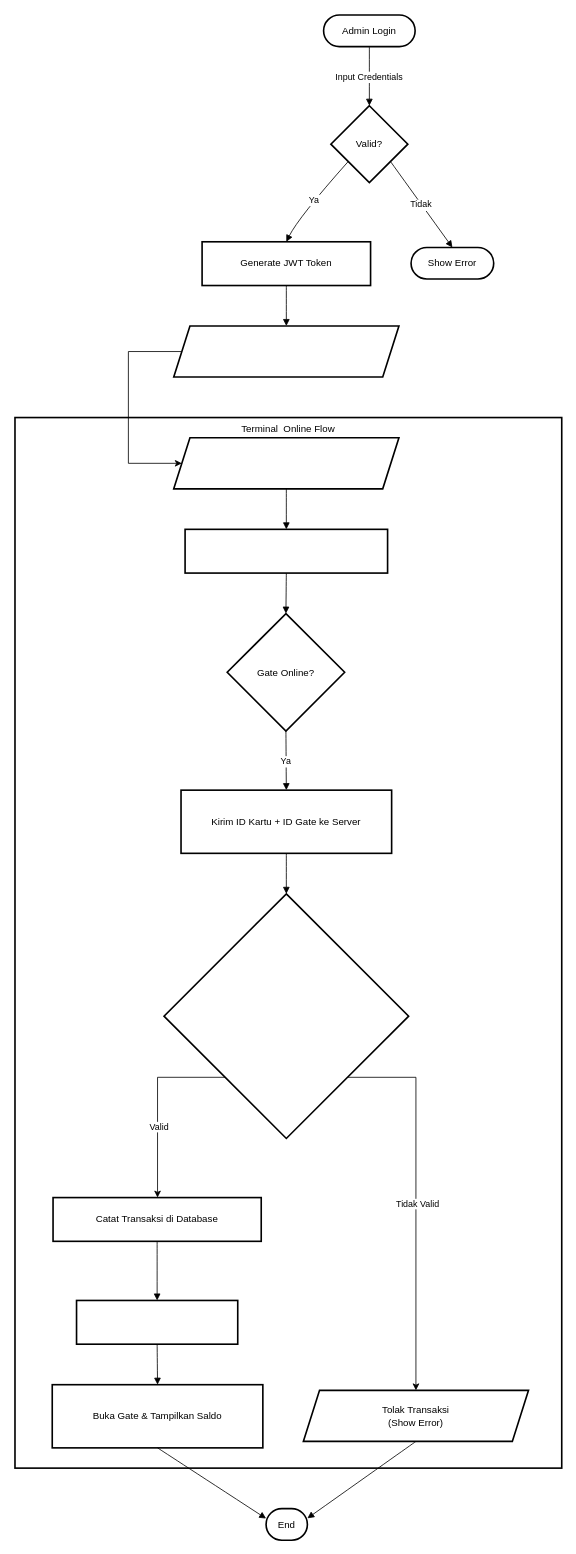
Some shapes in this 576 by 1554 pixel diagram are drawn without their labels. The centre of each missing label's shape, as x and y in pixels:
"Admin at Terminal Mengelola Data" goes at point 286,463.
"Save Token (Cookie/Local Storage)" goes at point 286,351.
"Server Cek: 1. Saldo 2. Status Kartu 3. Validasi Admin?" goes at point 286,1016.
"Update Saldo Kartu" goes at point 156,1322.
"User Tap Kartu di Gate" goes at point 286,550.
